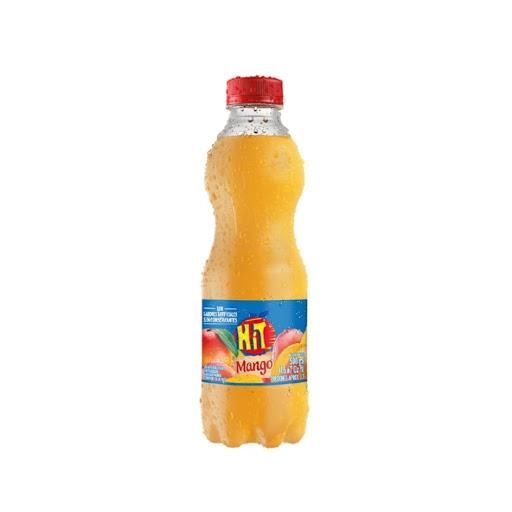JugoHM: (168, 46, 346, 482)
